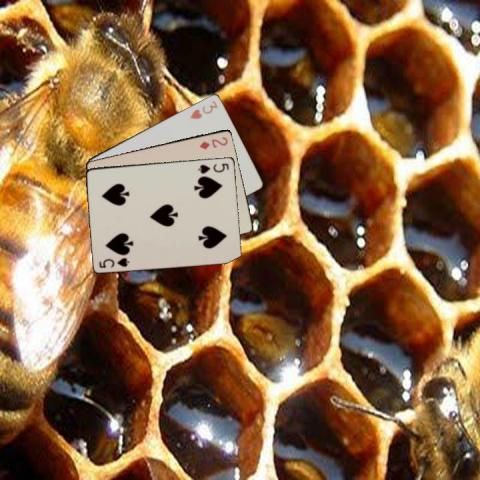2d: (197, 134, 229, 151)
3h: (187, 97, 219, 120)
5s: (195, 160, 230, 175), (96, 255, 131, 269)
